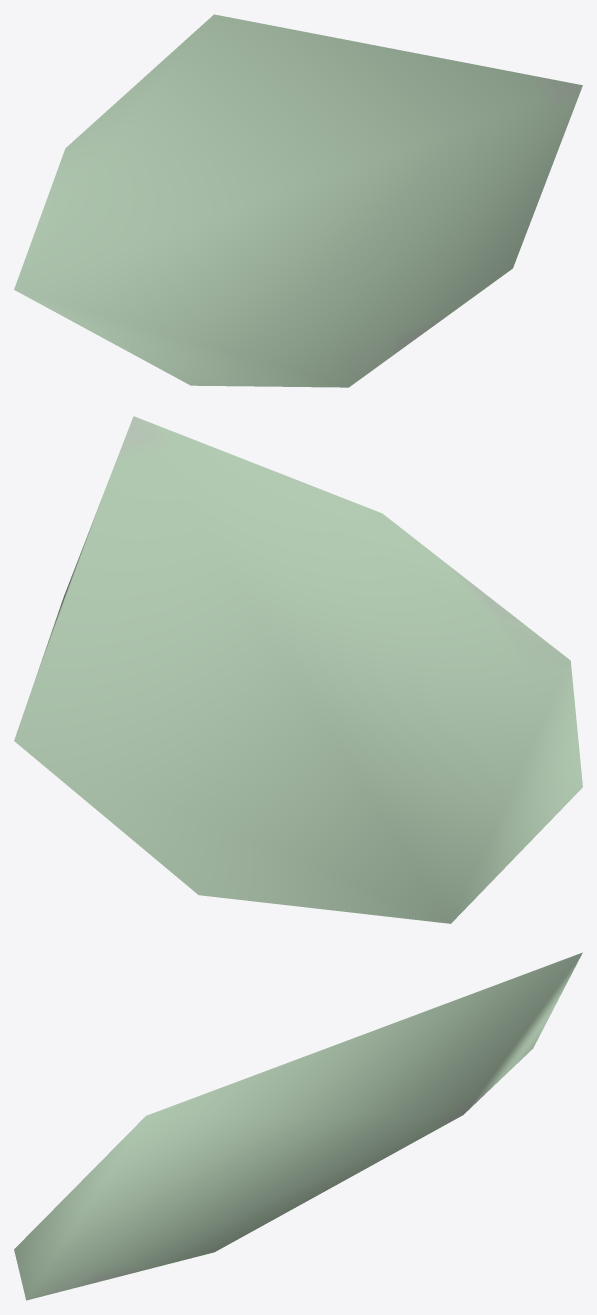
Rendered from TROLLHOLE02_HOLECAP90.fbx.
3 renders of one model, top to bottom at view 1: azimuth 30°, elevation 25°; view 2: azimuth 150°, elevation 25°; view 3: azimuth 330°, elevation 25°, orthographic. The views are drawn at different scales.
Visible parts, largest first — view 1: TROLLHOLE02_HOLECAP90; view 2: TROLLHOLE02_HOLECAP90; view 3: TROLLHOLE02_HOLECAP90.
Part boxes in pixels (x1,y1,x2,y2): TROLLHOLE02_HOLECAP90: [14, 14, 582, 387]; TROLLHOLE02_HOLECAP90: [14, 416, 582, 923]; TROLLHOLE02_HOLECAP90: [14, 952, 582, 1300].
Bounding box in the file's own units: 9340 × 4560 × 11774.
Materials: 1 (1 with a texture image).
